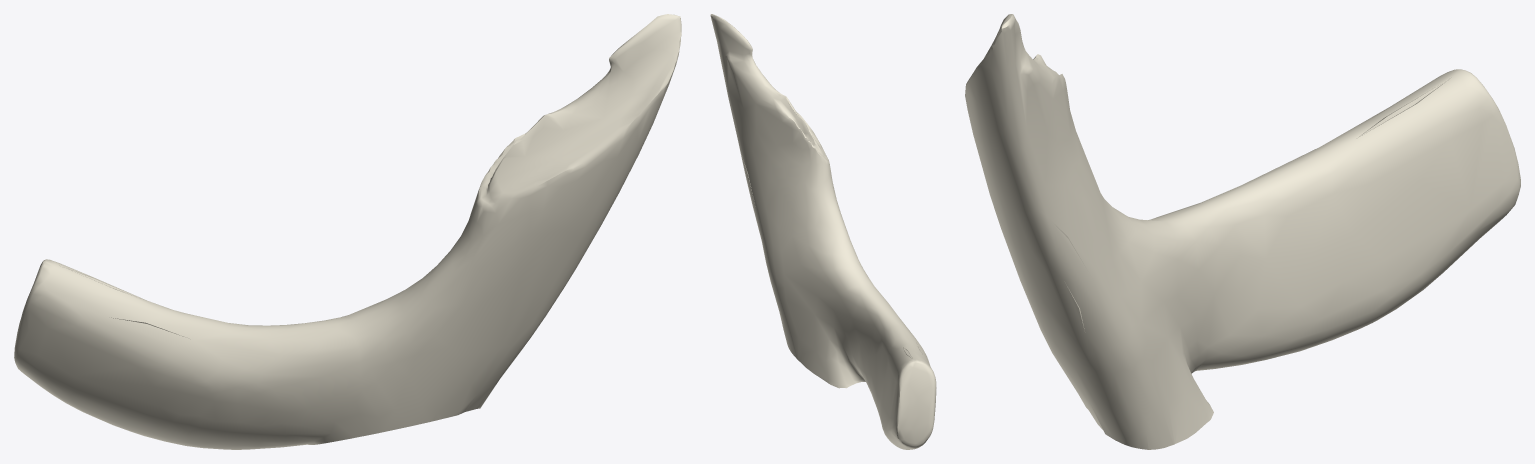
File: fma8302_fj3668m.glb
The picture shows the model from 3 angles, left to right: view 1: azimuth 30°, elevation 25°; view 2: azimuth 150°, elevation 25°; view 3: azimuth 270°, elevation 25°; orthographic projection. The views are drawn at different scales.
Parts seen in each view (by area): view 1: FMA8302_FJ3668M; view 2: FMA8302_FJ3668M; view 3: FMA8302_FJ3668M.
Part boxes in pixels (x1,y1,x2,y2): FMA8302_FJ3668M: [14, 14, 681, 449]; FMA8302_FJ3668M: [710, 14, 936, 449]; FMA8302_FJ3668M: [965, 14, 1520, 449].
Size of the model in its own units: 0.0785 by 0.0643 by 0.0571.
